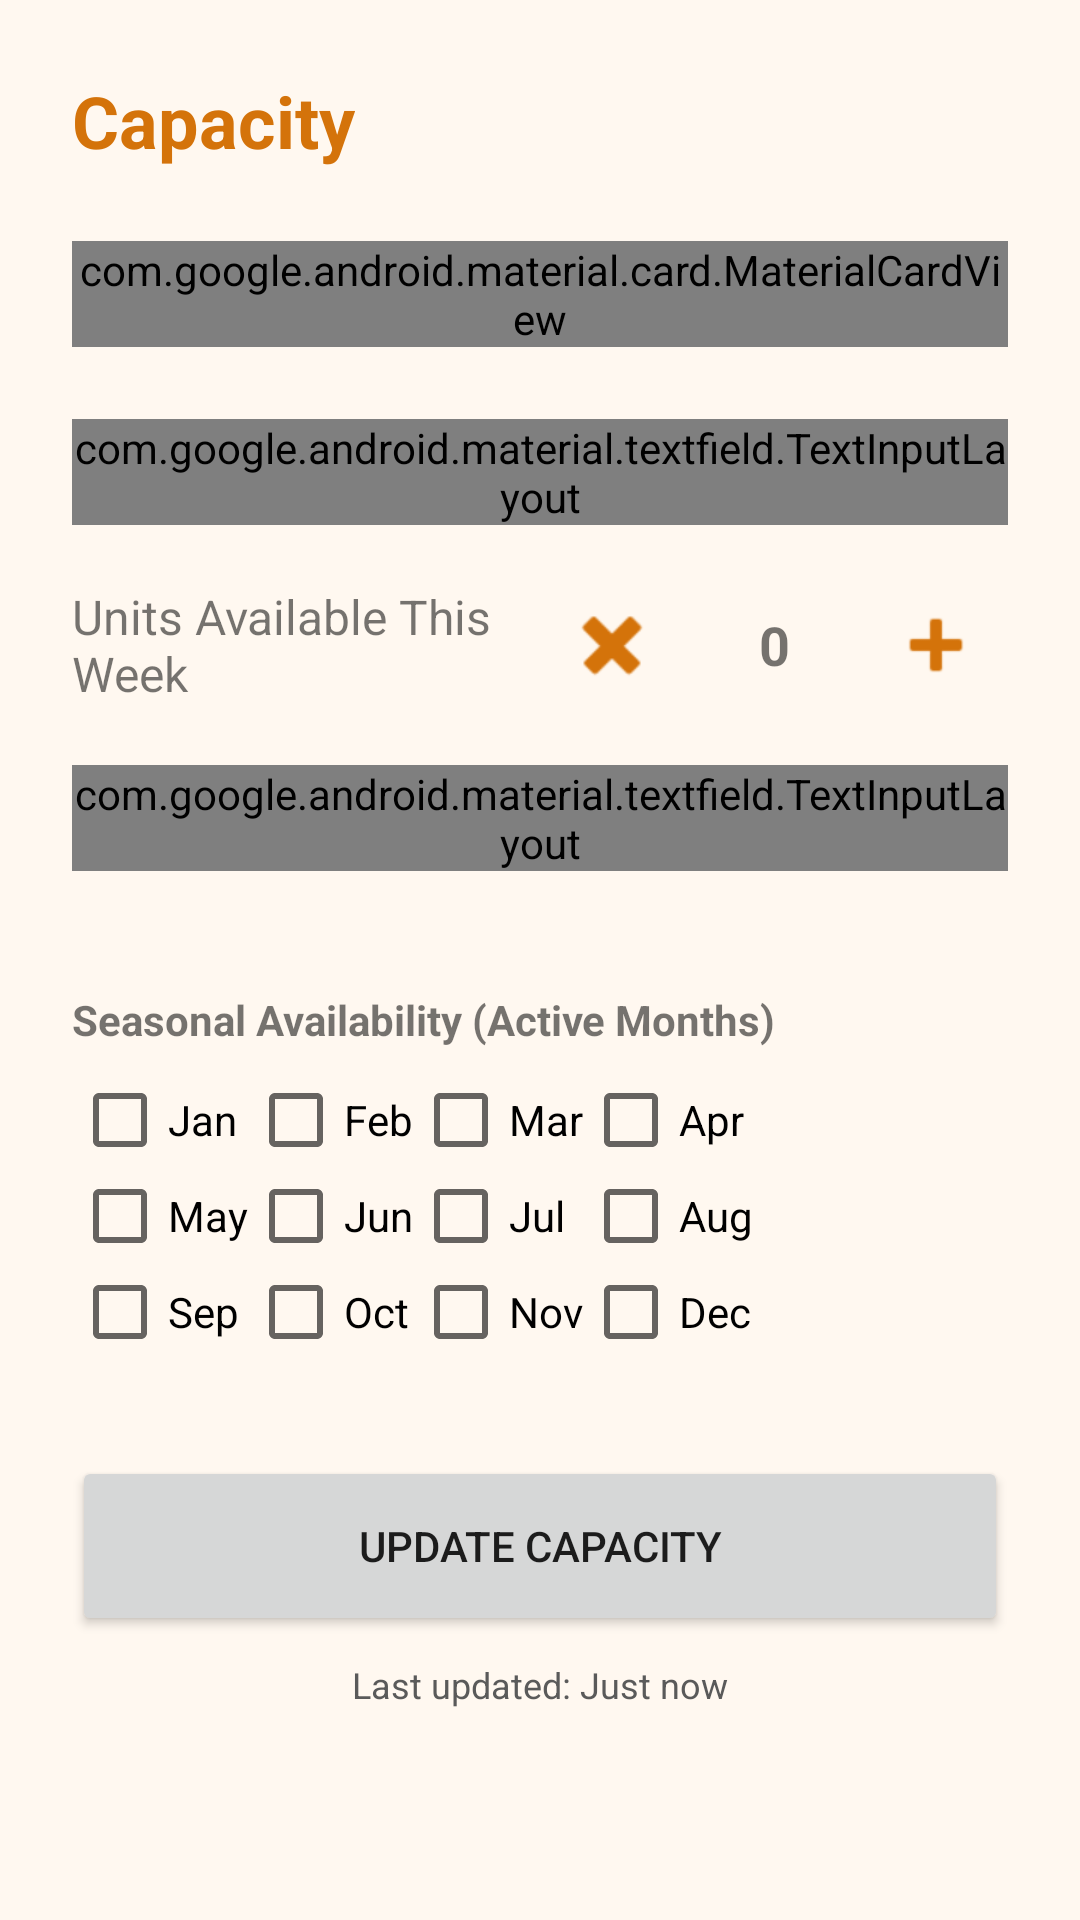

Screen size 1080w x 1920h. Icon name, then its center in pixels as point (x, y):
add: point (936, 645)
delete: point (612, 645)
